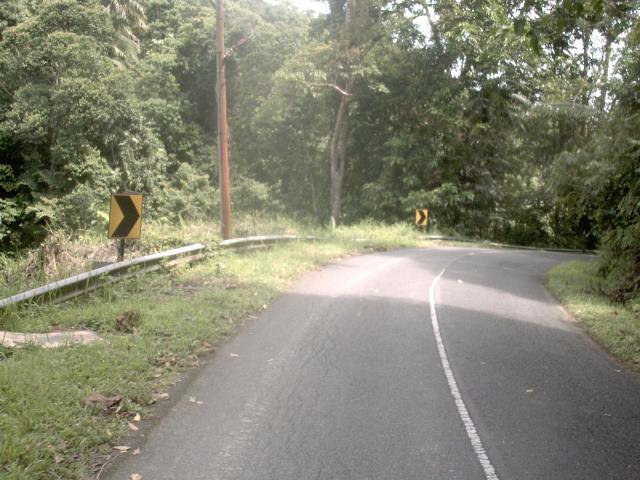traffic_sign: (99, 184, 152, 249)
